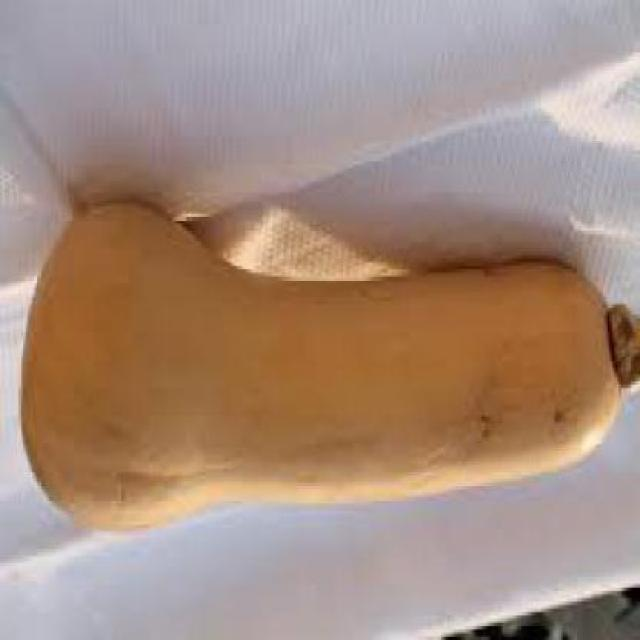BIODEGRADABLE: (16, 196, 638, 538)
